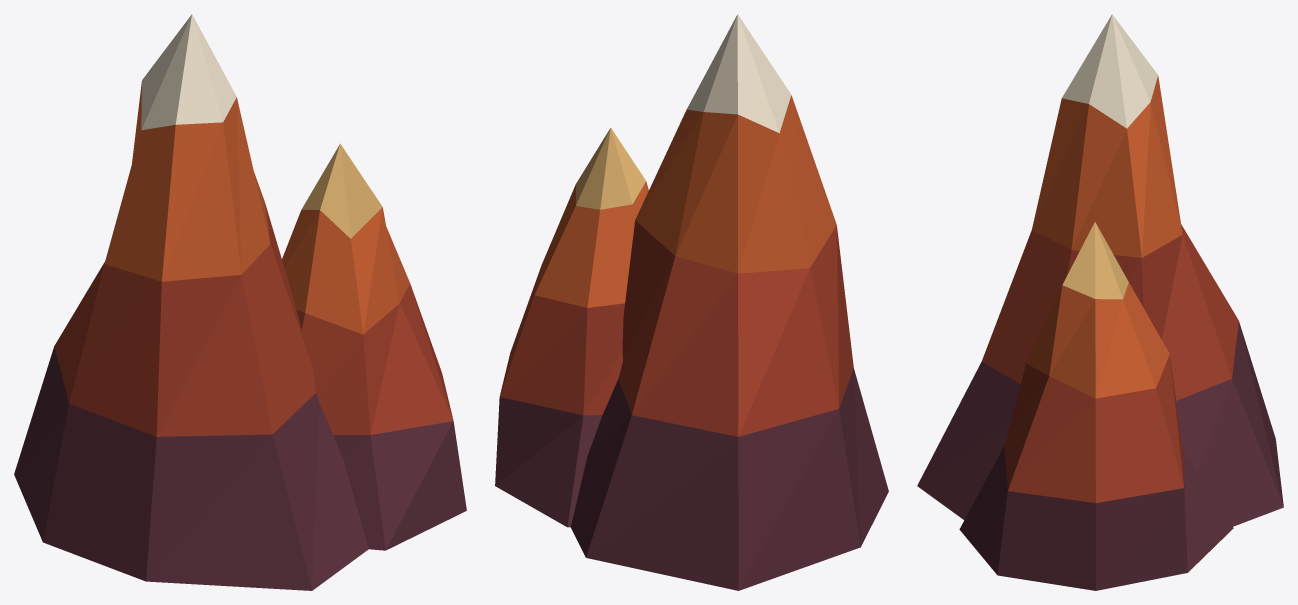
Rendered from Mtn_Peak_B.fbx.
3 views of the same model, side by side, from view 1: azimuth 30°, elevation 25°; view 2: azimuth 150°, elevation 25°; view 3: azimuth 270°, elevation 25° (orthographic). The views are drawn at different scales.
Parts seen in each view (by area): view 1: Mtn_Peak_B; view 2: Mtn_Peak_B; view 3: Mtn_Peak_B.
Part boxes in pixels (x1=…): Mtn_Peak_B: x1=14, y1=14, x2=466, y2=590; Mtn_Peak_B: x1=495, y1=14, x2=888, y2=590; Mtn_Peak_B: x1=917, y1=14, x2=1283, y2=590.
Bounding box in the file's own units: 36 × 45 × 32.14.
